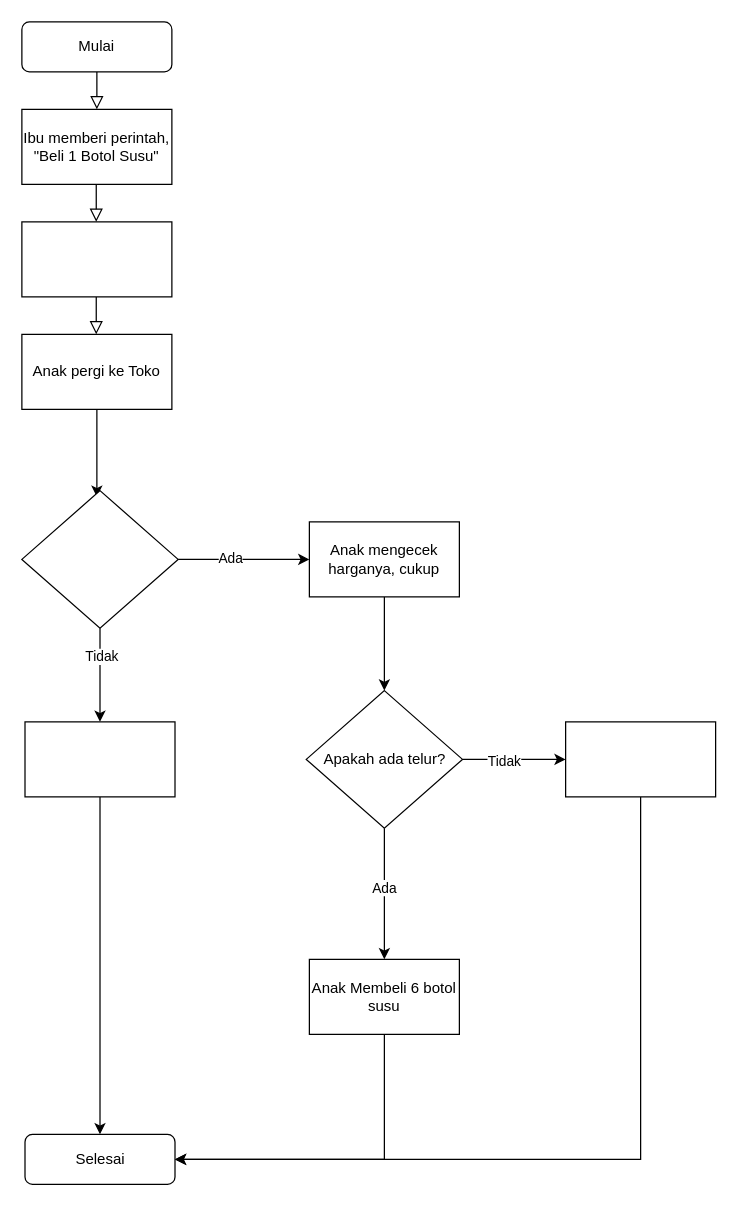
Some shapes in this 738 by 1206 pixel diagram are drawn without their labels. The box of each missing label's shape, as (x1, y1, x2, y2) in pixels:
Anak Membeli satu botol susu: (564, 721, 716, 797)
Anak Menjawab, "OK": (21, 221, 172, 297)
Anak tidak jadi membeli susu: (24, 721, 175, 797)
Apakah susu ada?: (21, 489, 178, 628)
